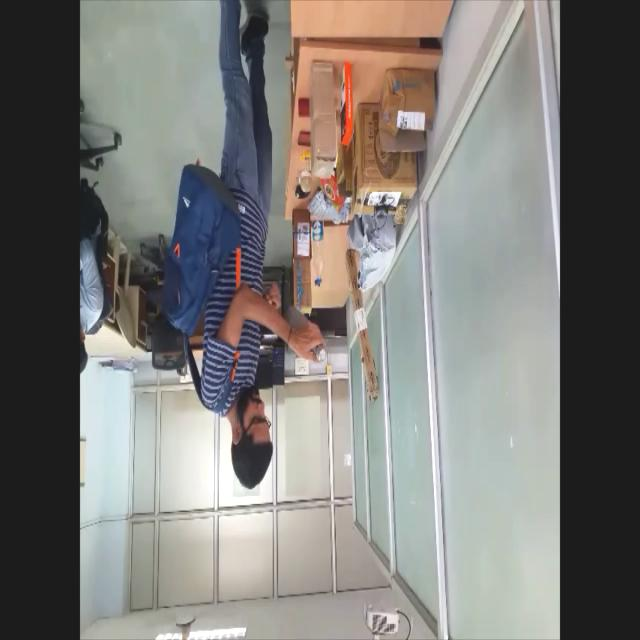normal: (157, 0, 327, 495)
